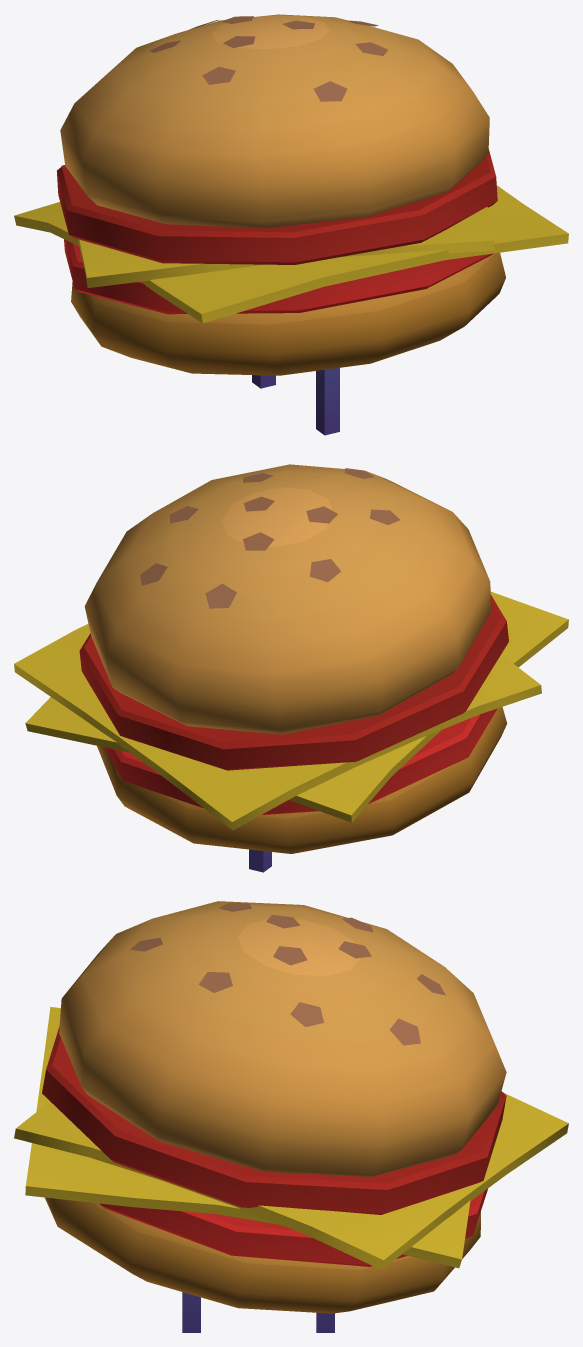
File: BurgerSign_3_B.fbx
The picture shows the model from 3 angles, top to bottom: view 1: azimuth 30°, elevation 25°; view 2: azimuth 150°, elevation 25°; view 3: azimuth 270°, elevation 25°; orthographic projection. The views are drawn at different scales.
Parts seen in each view (by area): view 1: BurgerSign_3_B; view 2: BurgerSign_3_B; view 3: BurgerSign_3_B.
Part boxes in pixels (left/top/right/bottom): BurgerSign_3_B: left=14, top=14, right=568, bottom=435; BurgerSign_3_B: left=14, top=464, right=568, bottom=872; BurgerSign_3_B: left=14, top=901, right=568, bottom=1332.
Size of the model in its own units: 276 by 208 by 270.
